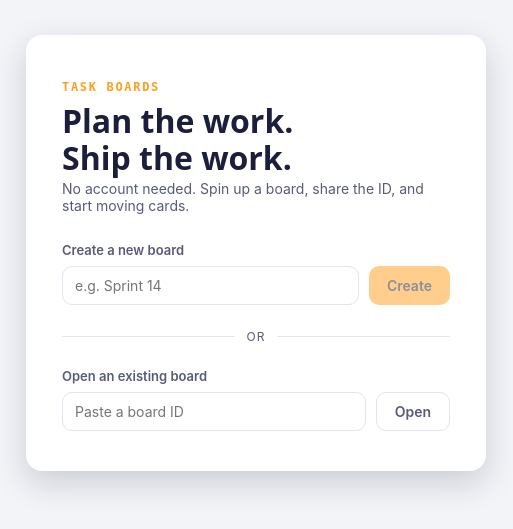
Test: HomePage › shows a validation message when joining without an ID
Click the button "Open": click(413, 412) x1=376 y1=392 x2=450 y2=431
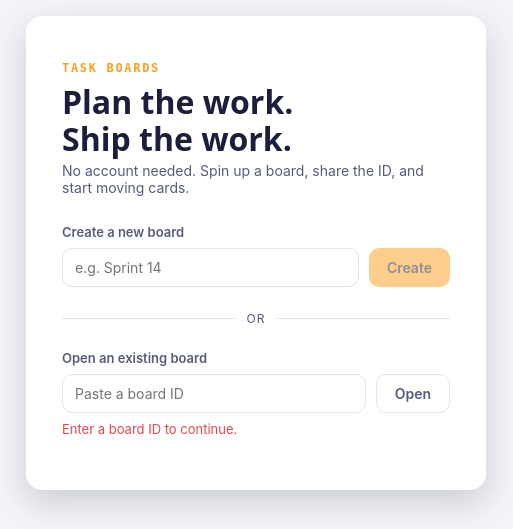
Now the text "Enter a board ID to continue." is shown, box x1=62 y1=421 x2=237 y2=437
